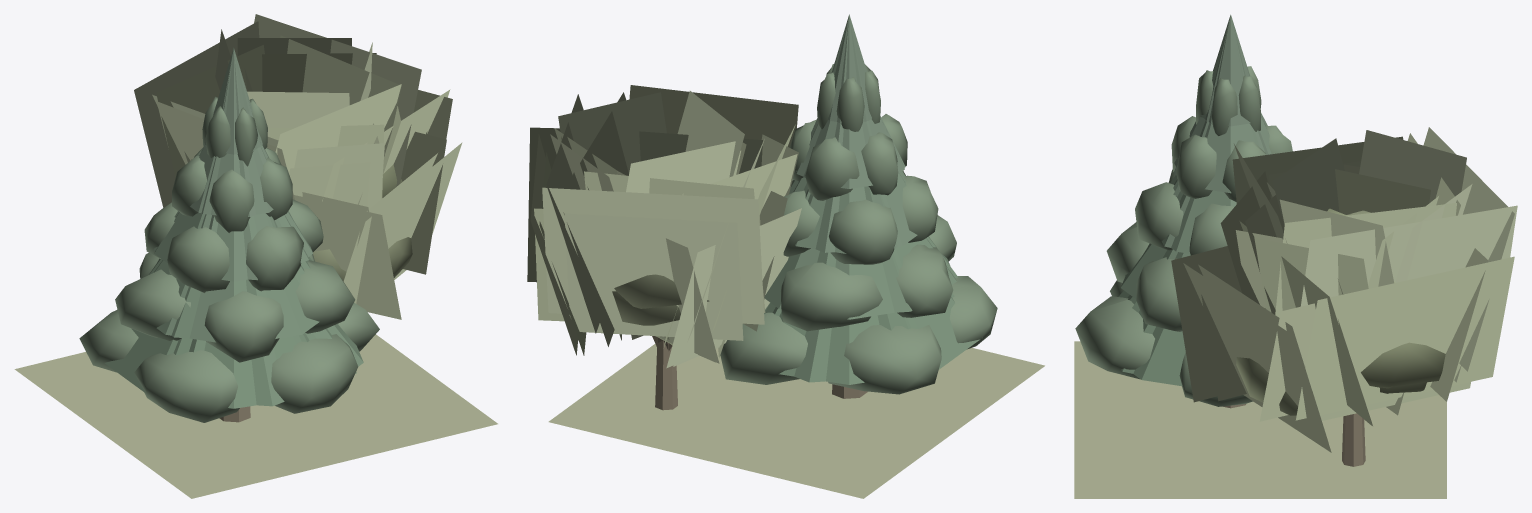
The picture shows the model from 3 angles, left to right: view 1: azimuth 30°, elevation 25°; view 2: azimuth 150°, elevation 25°; view 3: azimuth 270°, elevation 25°; orthographic projection. The views are drawn at different scales.
Parts seen in each view (by area): view 1: Near, Mid, Far; view 2: Near, Mid; view 3: Near, Mid.
Part boxes in pixels (x1,y1,x2,y2): Near: [14, 29, 497, 498]; Mid: [134, 14, 462, 406]; Far: [189, 164, 402, 352]; Near: [534, 14, 1044, 498]; Mid: [527, 15, 957, 382]; Near: [1074, 14, 1488, 498]; Mid: [1118, 16, 1517, 452].
Bounding box in the file's own units: 1.24 × 1.15 × 1.19.
